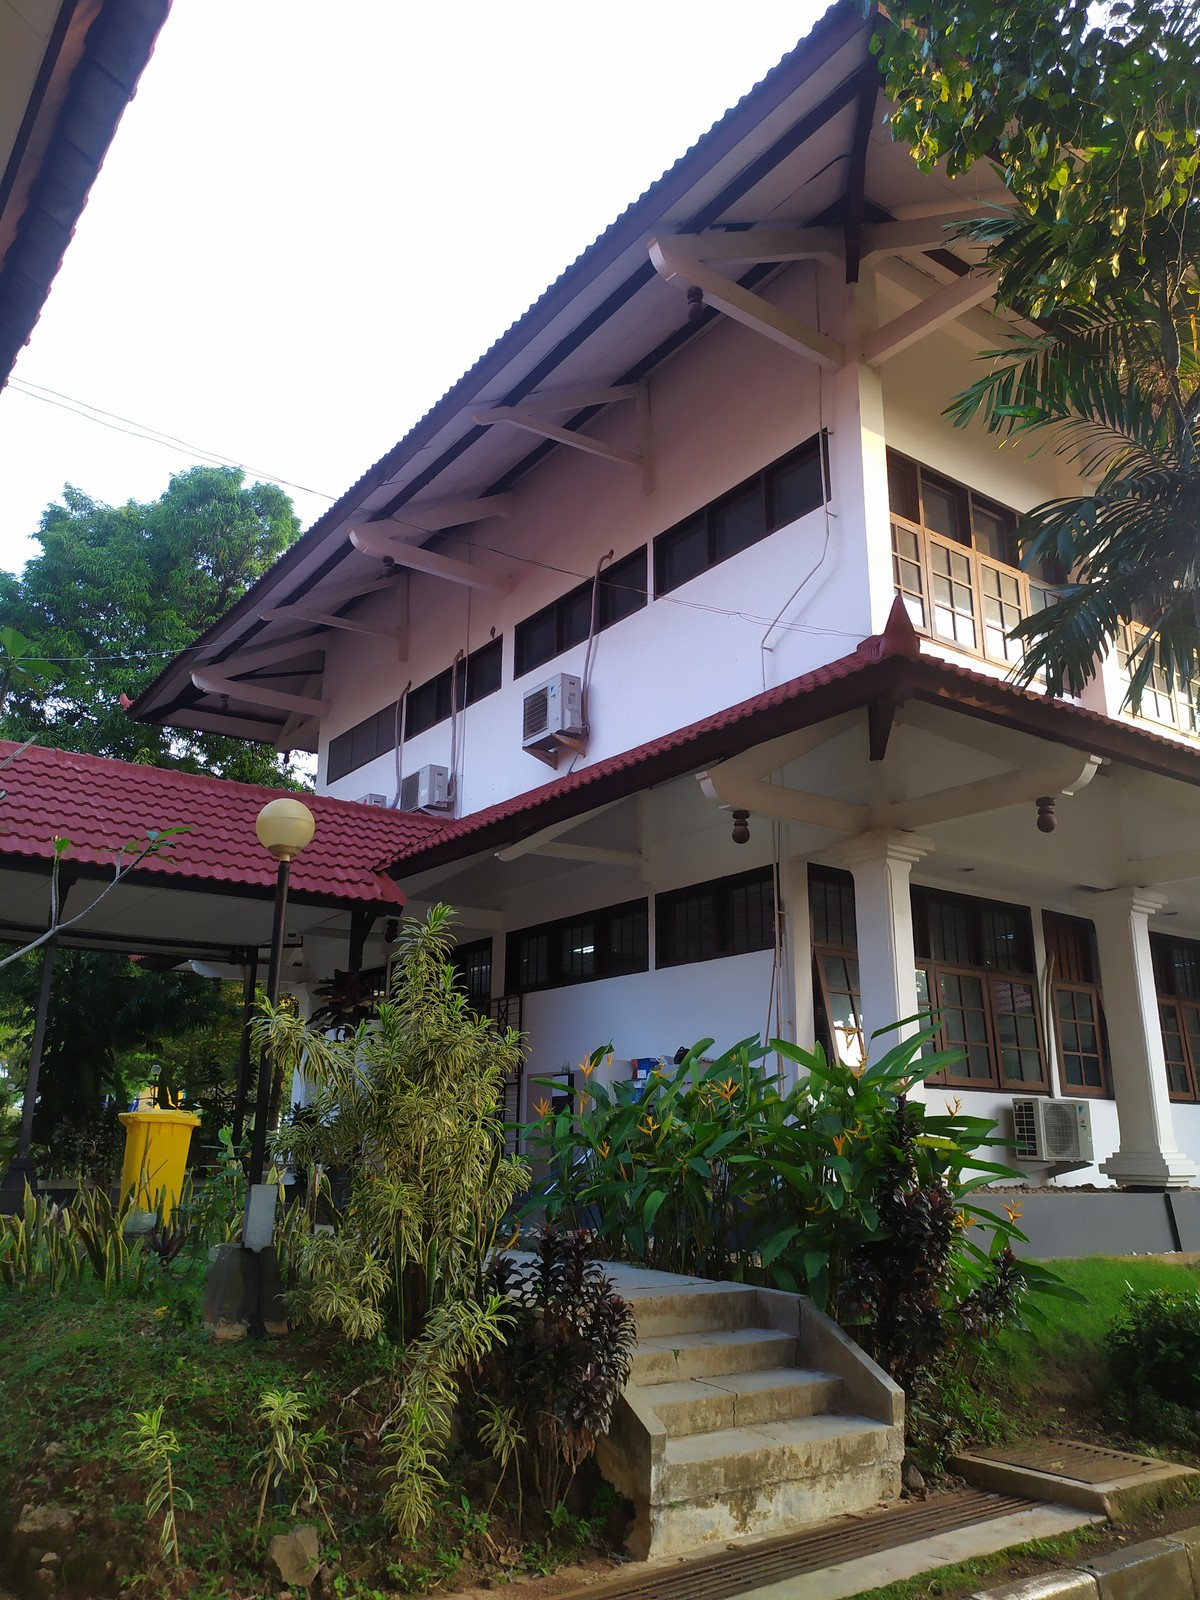concrete beam: (718, 283, 853, 374), (901, 767, 1046, 831), (758, 786, 894, 838)
concrete column: (850, 857, 942, 1144), (1099, 915, 1179, 1150)
